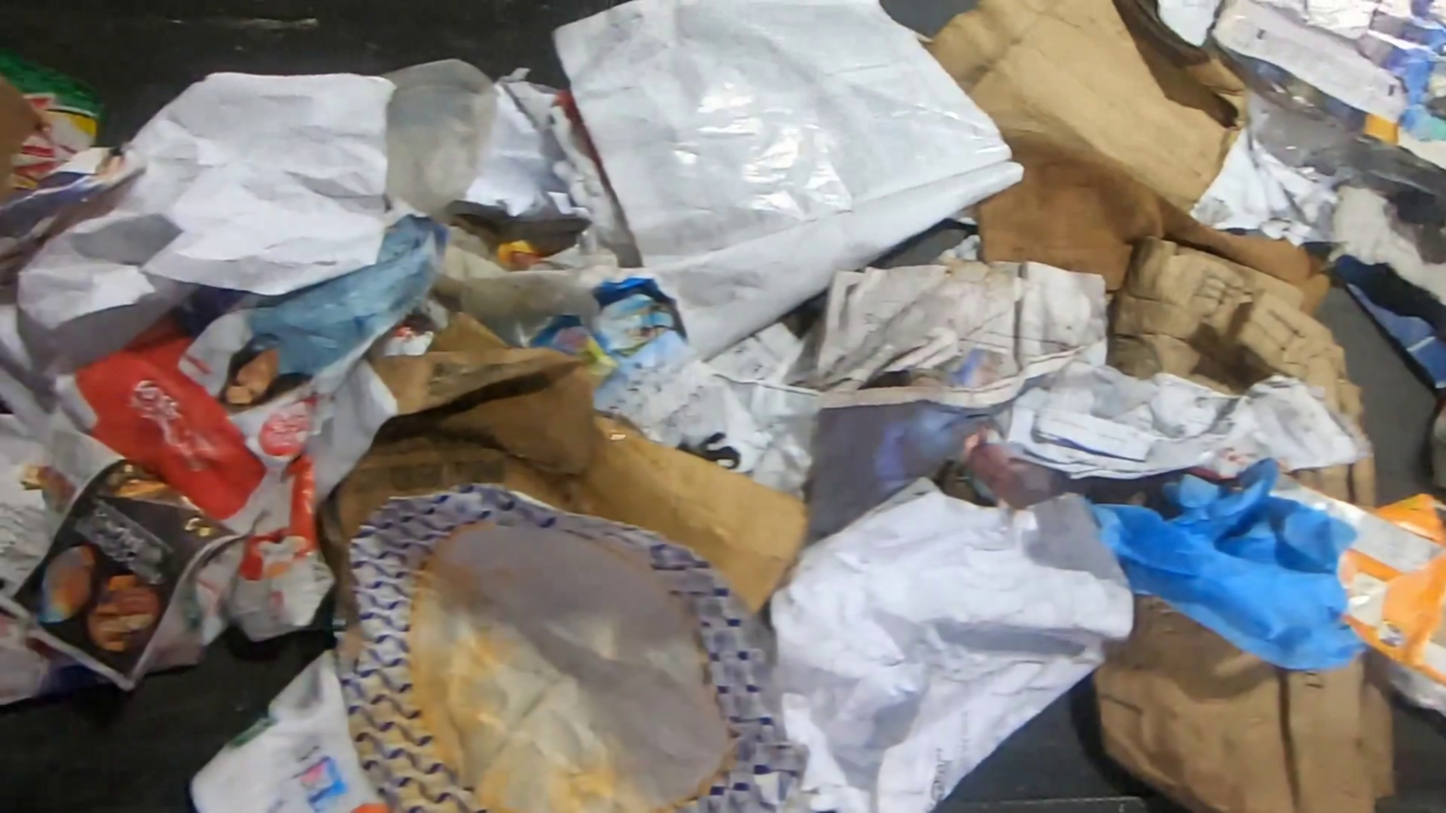cardboard: (323, 309, 815, 658), (925, 2, 1336, 327), (1105, 239, 1377, 511), (1091, 591, 1396, 813), (1268, 473, 1444, 712), (0, 46, 105, 211)
